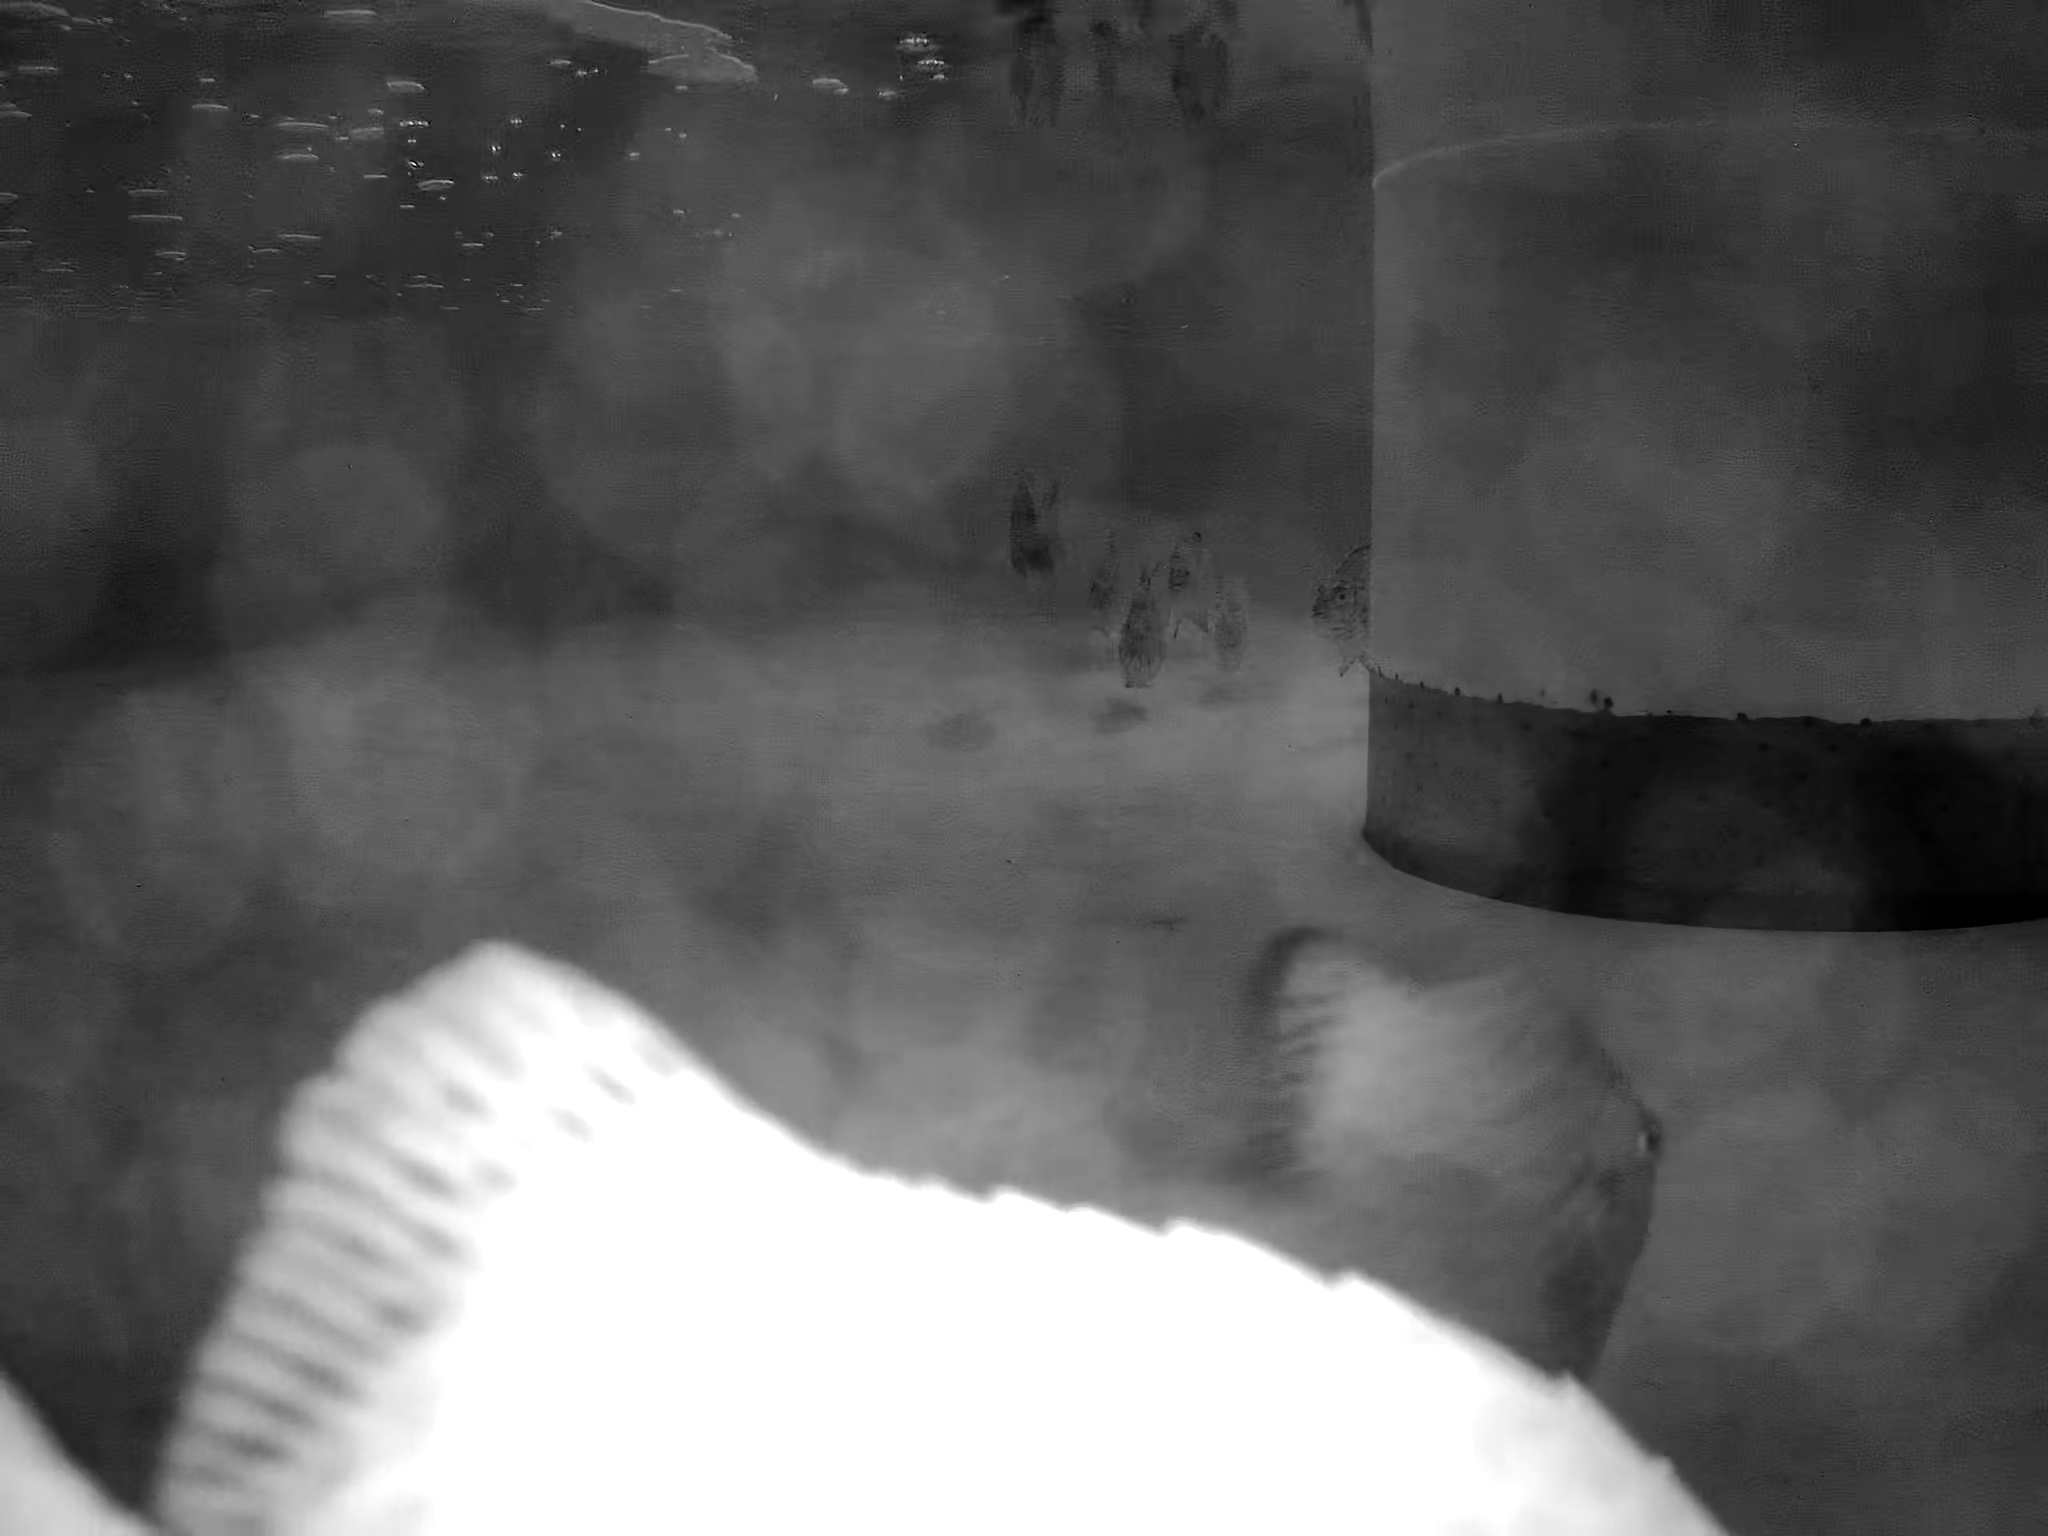fish: (10, 934, 1751, 1536), (1216, 921, 1680, 1350), (1311, 545, 1382, 691), (1000, 465, 1063, 581), (1074, 529, 1118, 670), (1122, 578, 1161, 713), (1171, 531, 1209, 660), (1219, 584, 1247, 699)
